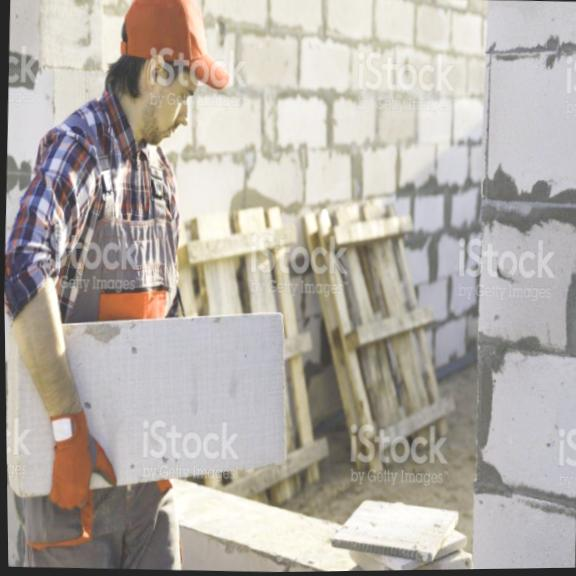no_safety_vest: (2, 121, 203, 395)
